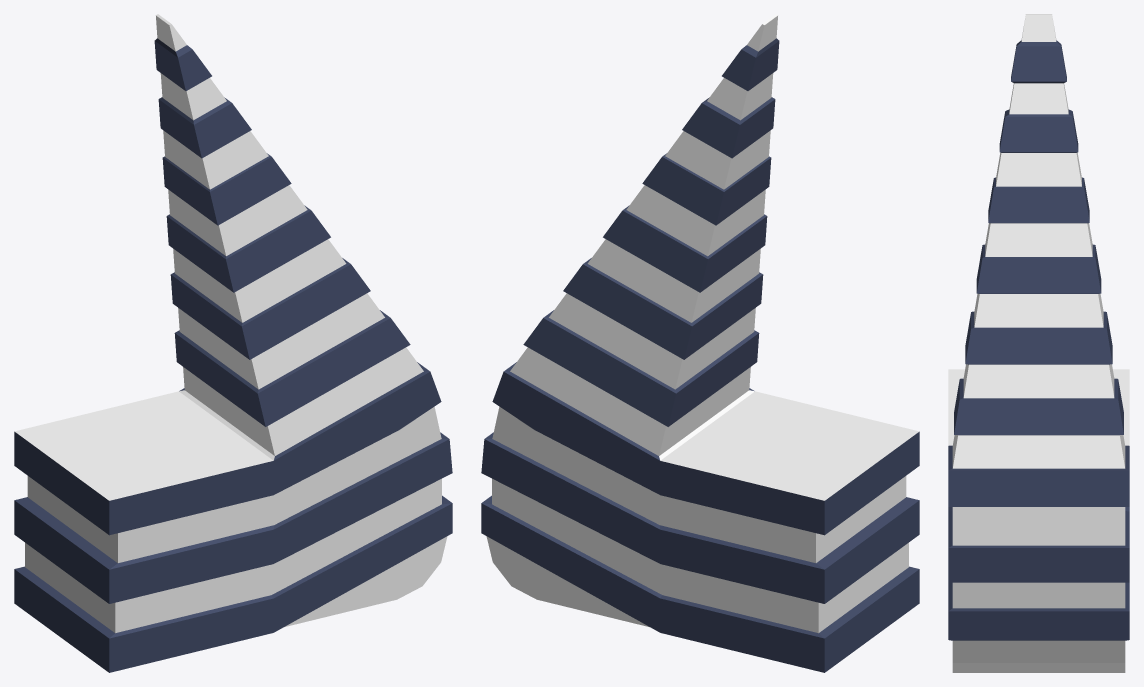
Rendered from Horn0.5x3.fbx.
3 views of the same model, side by side, from view 1: azimuth 30°, elevation 25°; view 2: azimuth 150°, elevation 25°; view 3: azimuth 270°, elevation 25° (orthographic). The views are drawn at different scales.
Visible parts, largest first — view 1: Horn0.5x3; view 2: Horn0.5x3; view 3: Horn0.5x3.
Boxes of the visible parts, x1=… form: Horn0.5x3: x1=14, y1=14, x2=452, y2=672; Horn0.5x3: x1=481, y1=14, x2=919, y2=672; Horn0.5x3: x1=948, y1=14, x2=1129, y2=672.
Size of the model in its own units: 1.04 by 1.73 by 0.5.
